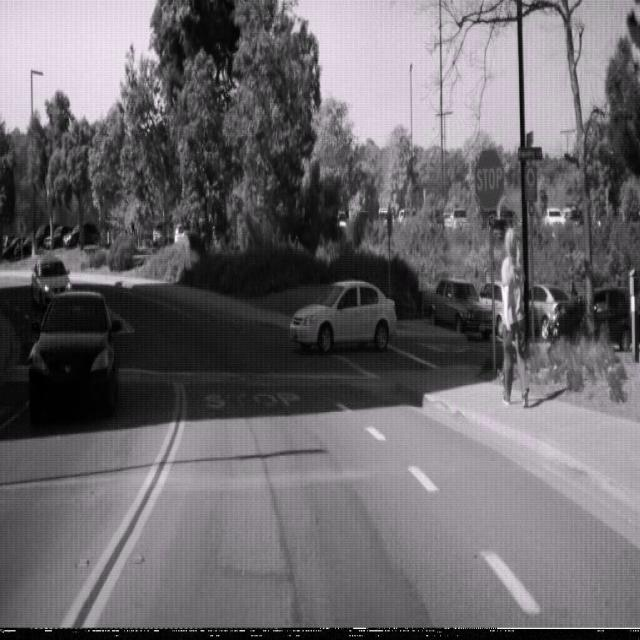stop_sign: (474, 146, 505, 211)
